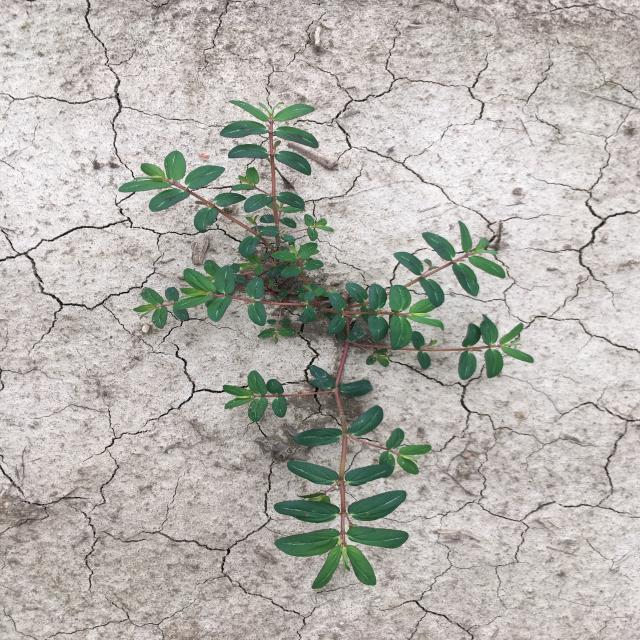SpottedSpurge: (118, 100, 534, 589)
